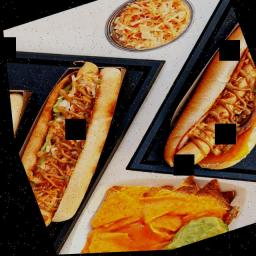hotdog: (4, 45, 169, 234), (127, 24, 256, 178)
